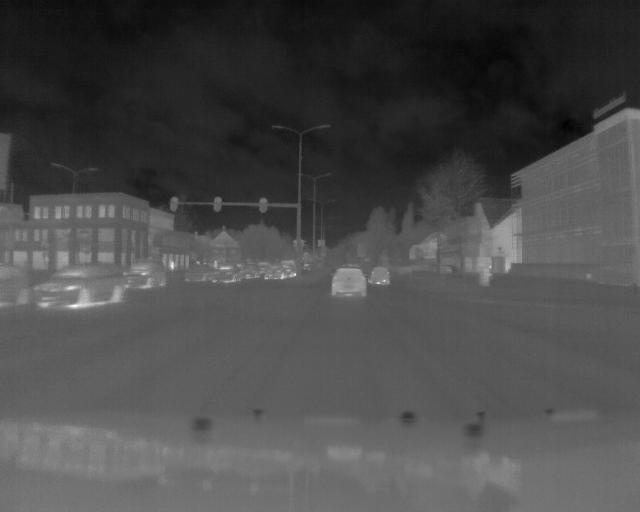car: (46, 261, 126, 301), (1, 260, 29, 310), (327, 266, 370, 297), (124, 258, 166, 288), (368, 264, 395, 289), (210, 264, 243, 284), (187, 261, 214, 284), (245, 261, 270, 278), (266, 262, 286, 280)
